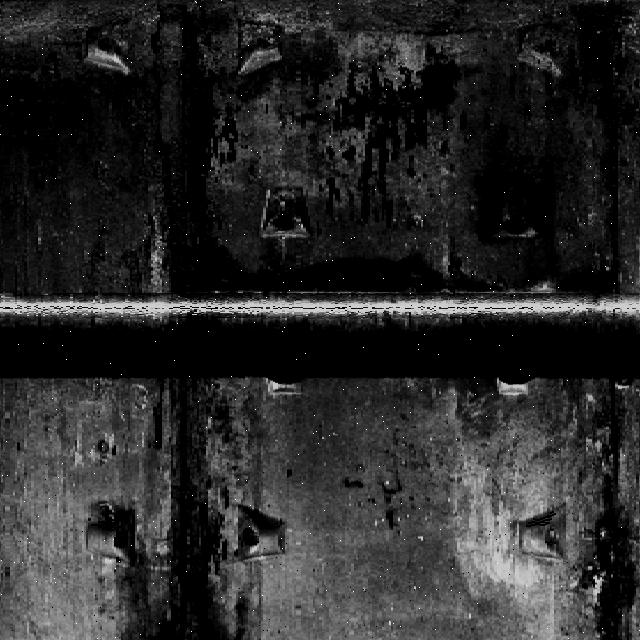leakage: (112, 361, 261, 639), (143, 0, 233, 296), (567, 413, 640, 635), (235, 248, 484, 293)
